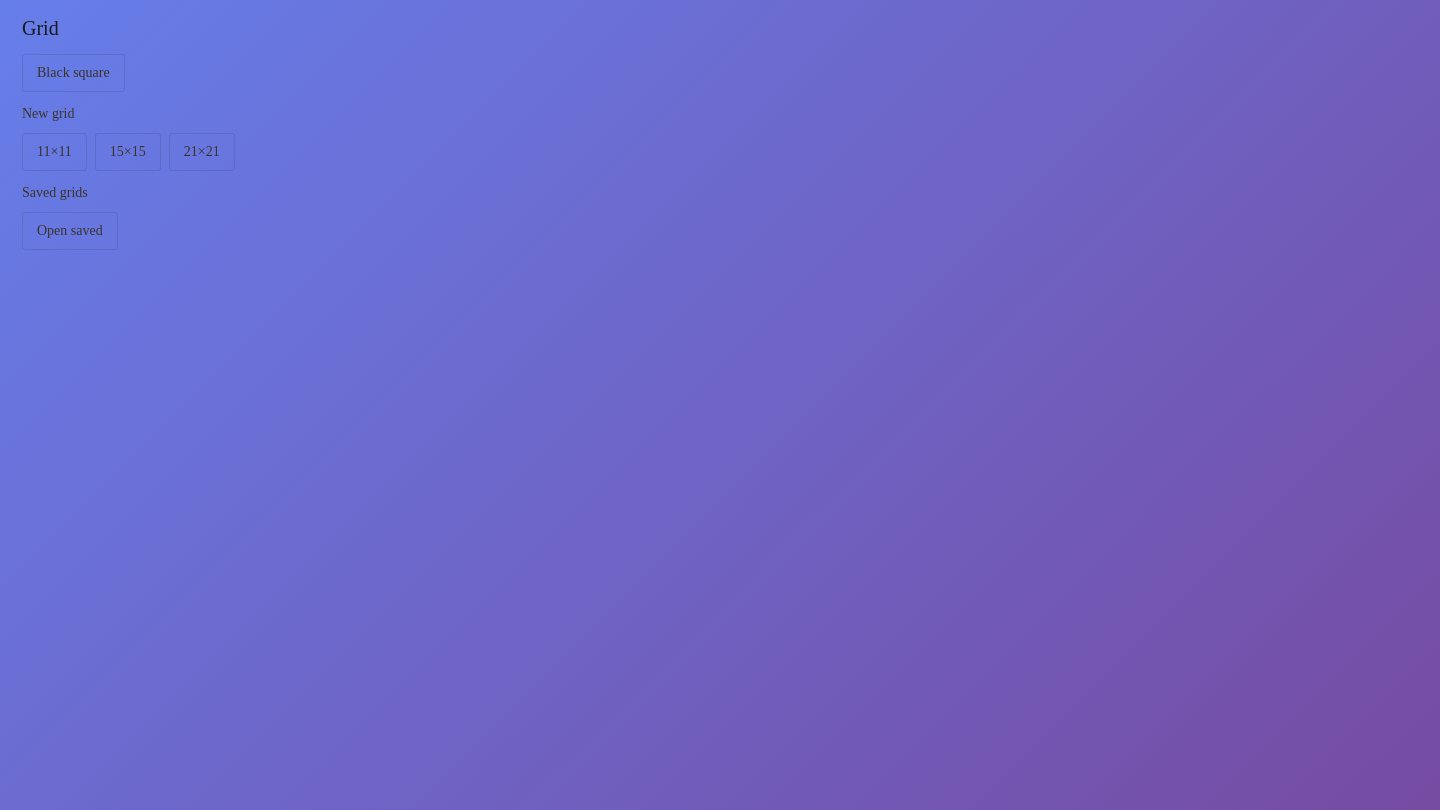
Test: GridPanel Open saved (§3.4) › Delete asks Delete "<name>"? first; nothing is removed yet
This screenshot has width=1440, height=810.
Click the button "Open saved" at (70, 231), box [22,212,118,250]
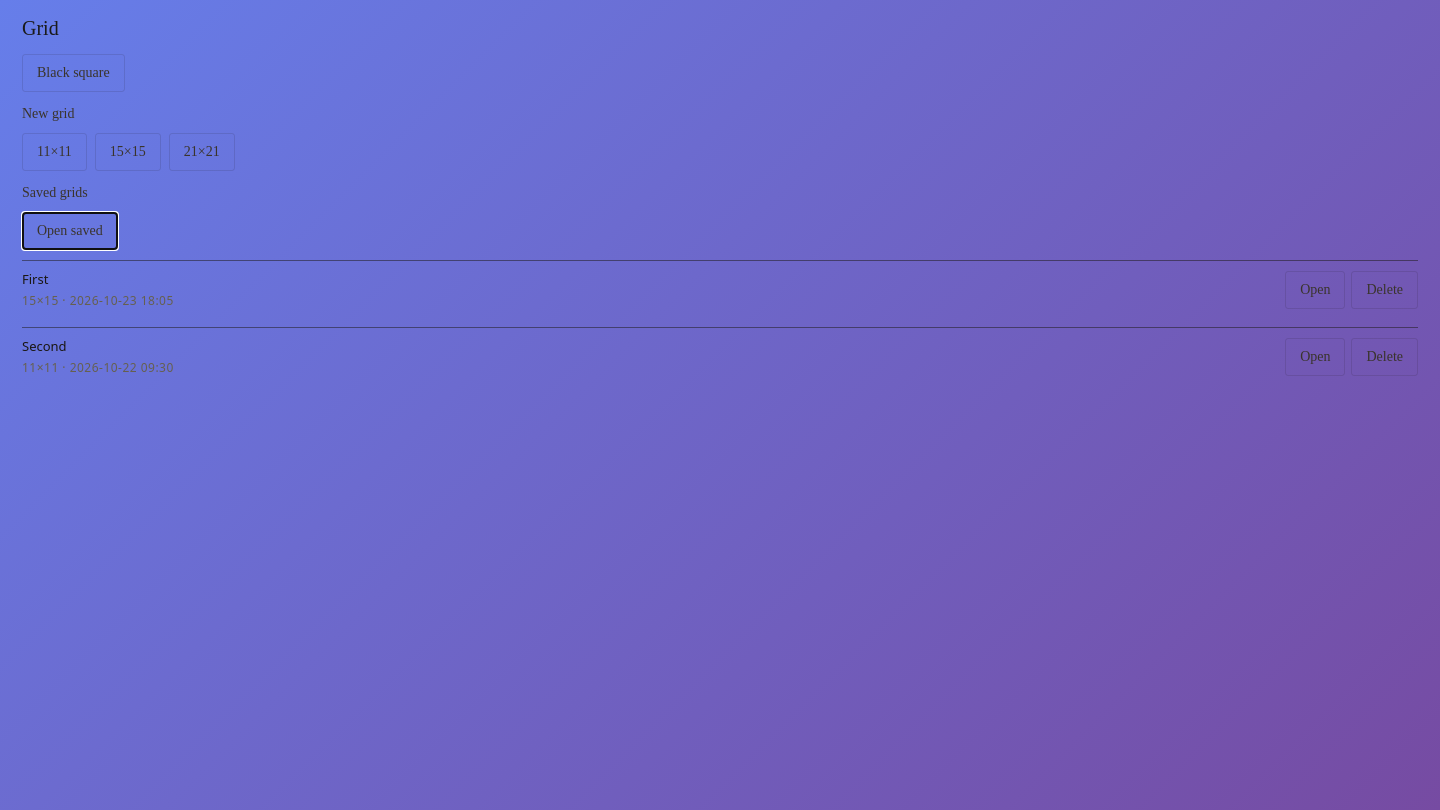
Result: the text "First" is shown at [22,270,48,288]
Click the button "Delete" in the row of "First" at (1385, 290), box [1352,271,1418,309]
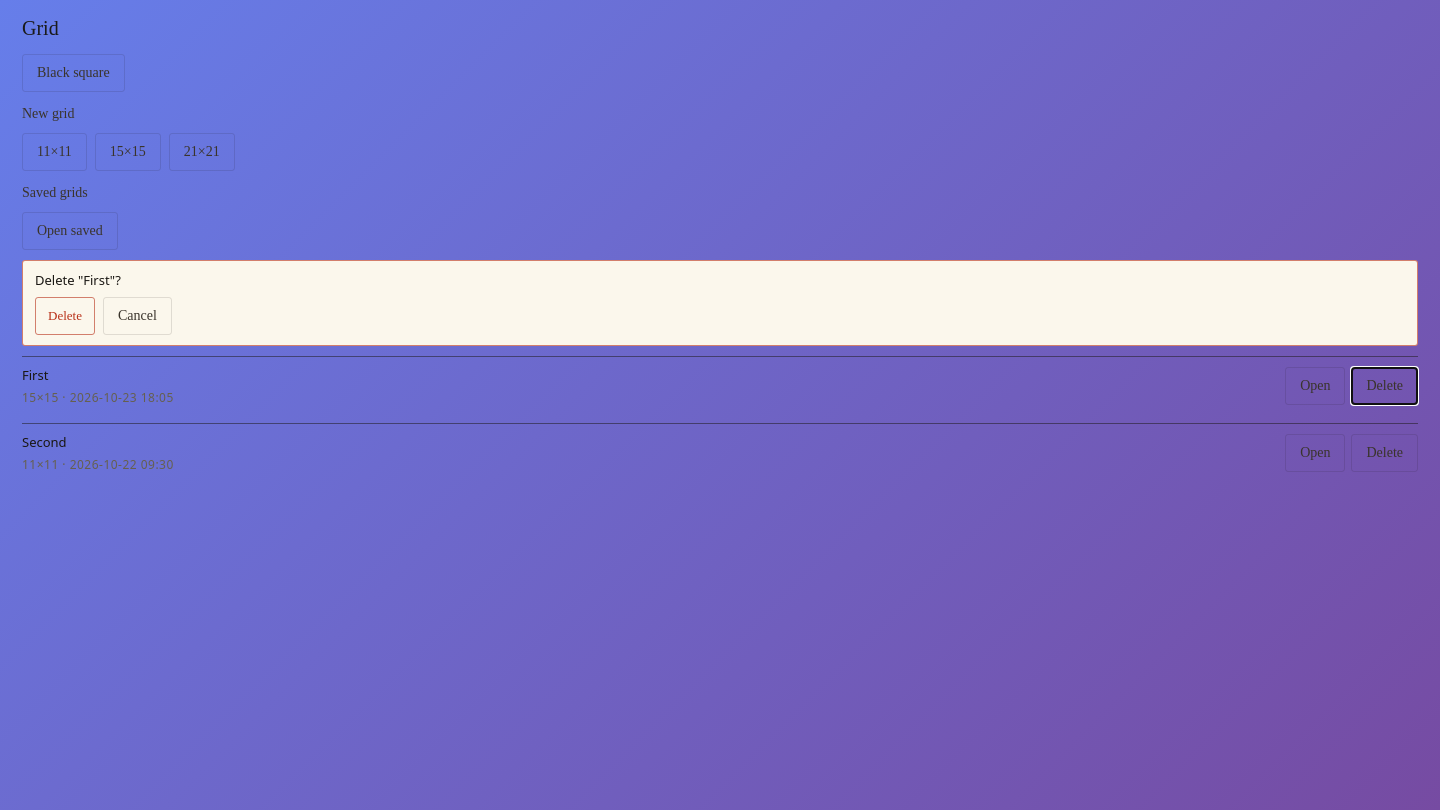
Result: the button "Delete" below "Delete \"First\"?" is shown at [35,297,95,335]
Result: the button "Cancel" is shown at [103,297,172,335]
